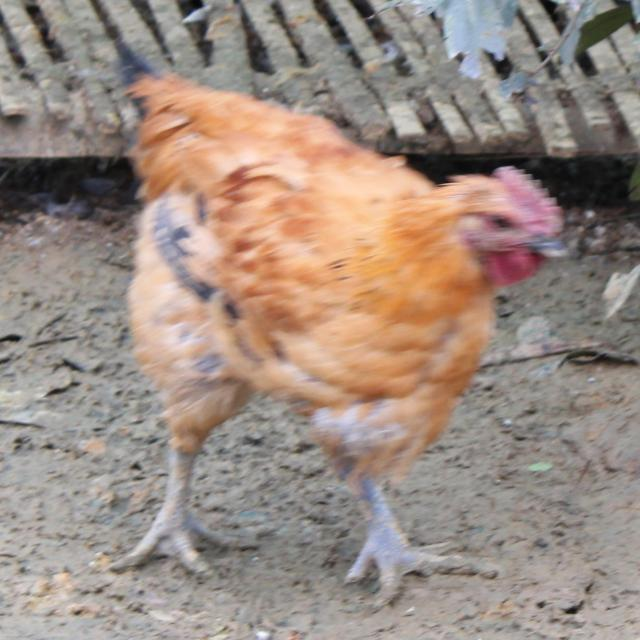hen: (68, 69, 574, 621)
